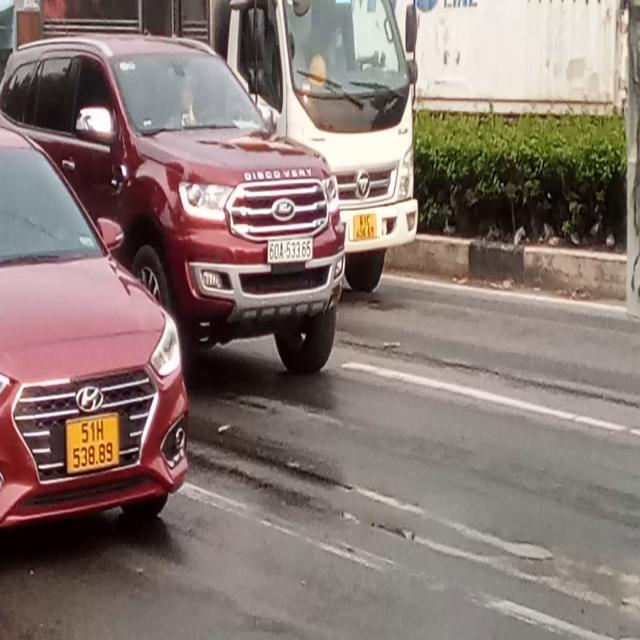bien_trang: (267, 236, 315, 266)
bien_vang: (64, 419, 122, 470), (352, 204, 378, 239)
